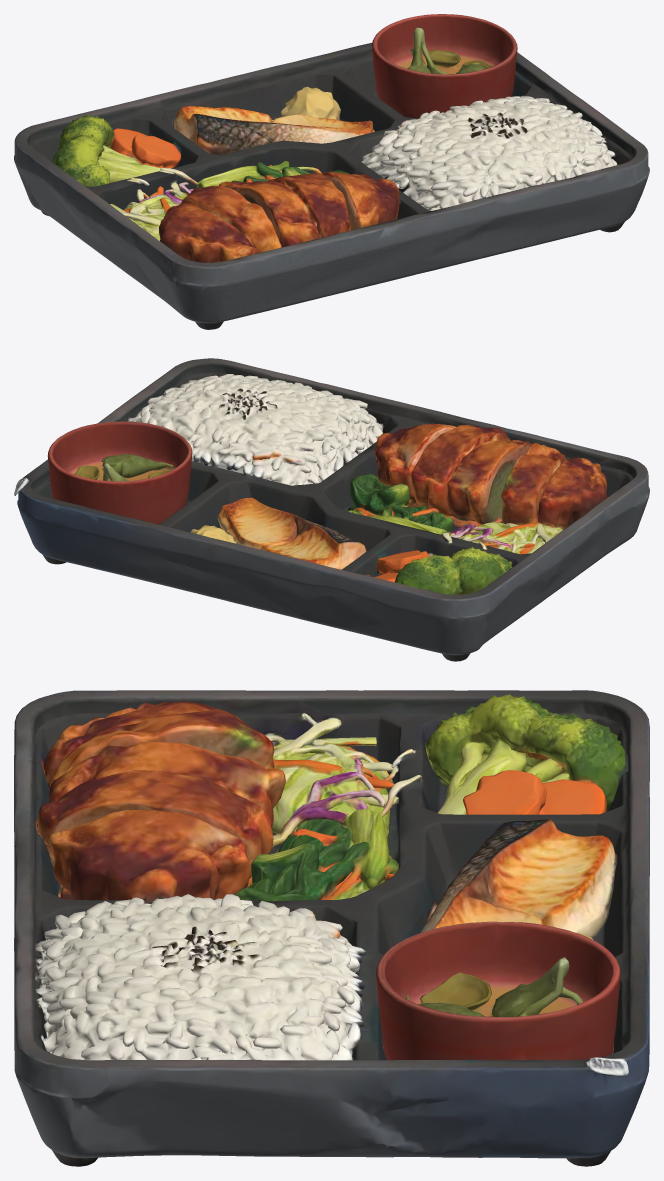
The model's file is bento-box.glb.
3 renders of one model, top to bottom at view 1: azimuth 30°, elevation 25°; view 2: azimuth 150°, elevation 25°; view 3: azimuth 270°, elevation 25°, orthographic. The views are drawn at different scales.
Visible parts, largest first — view 1: tripo_node_d798544c-198c-4f43-be0a-462fd59da7b7_0; view 2: tripo_node_d798544c-198c-4f43-be0a-462fd59da7b7_0; view 3: tripo_node_d798544c-198c-4f43-be0a-462fd59da7b7_0.
Part boxes in pixels (x1,y1,x2,y2): tripo_node_d798544c-198c-4f43-be0a-462fd59da7b7_0: (14,14,649,329); tripo_node_d798544c-198c-4f43-be0a-462fd59da7b7_0: (14,358,649,661); tripo_node_d798544c-198c-4f43-be0a-462fd59da7b7_0: (14,690,649,1166).
Bounding box in the file's own units: 1 × 0.207 × 0.7078.
1 material, 1 textured.
